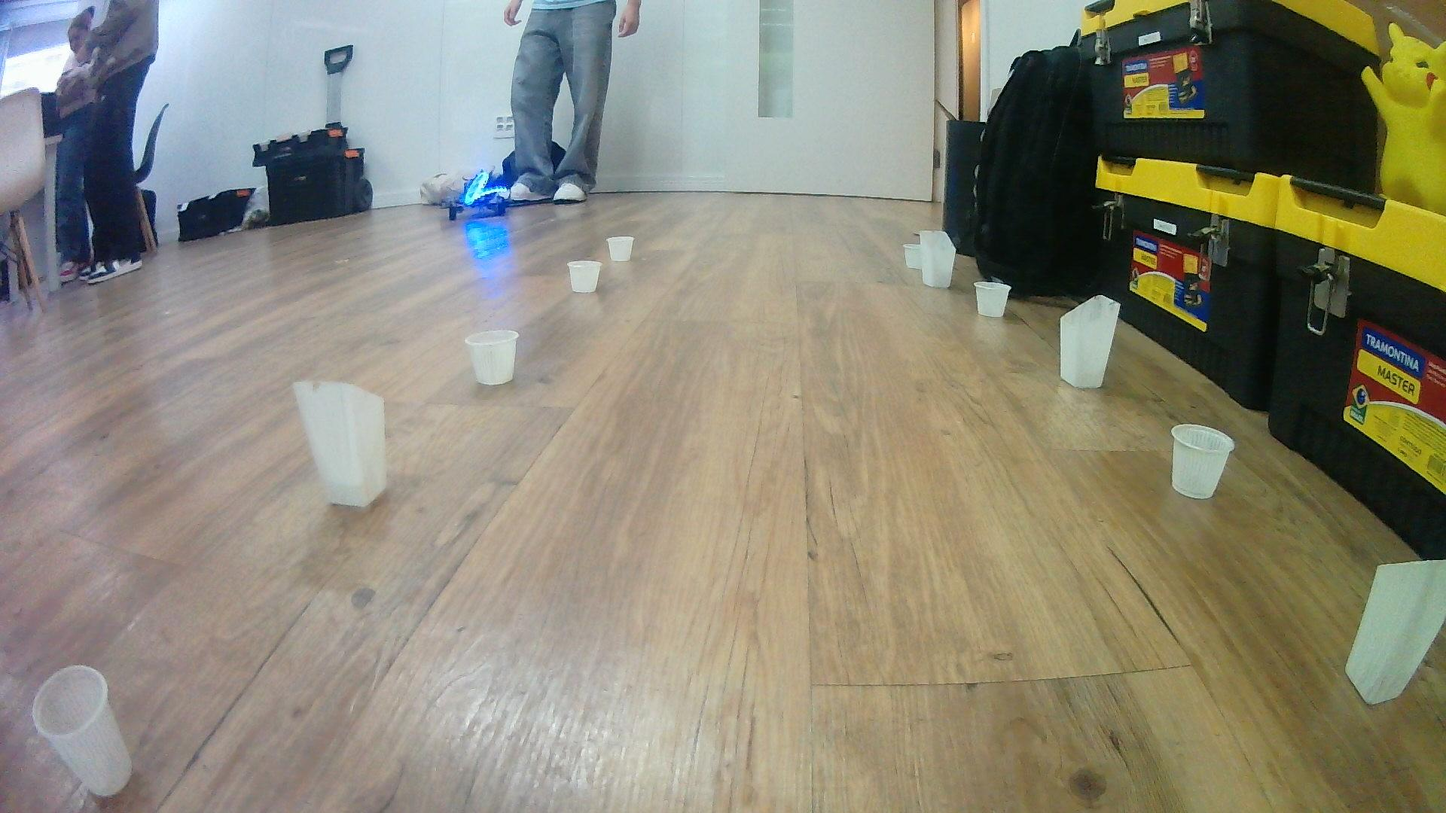erva_daninha: (1343, 559, 1446, 706), (291, 378, 388, 508), (1057, 294, 1121, 390), (913, 230, 957, 288)
planta: (30, 664, 133, 797), (1169, 423, 1237, 501), (465, 328, 520, 386), (972, 281, 1011, 318), (566, 260, 602, 294), (607, 236, 635, 263), (902, 243, 923, 270)
